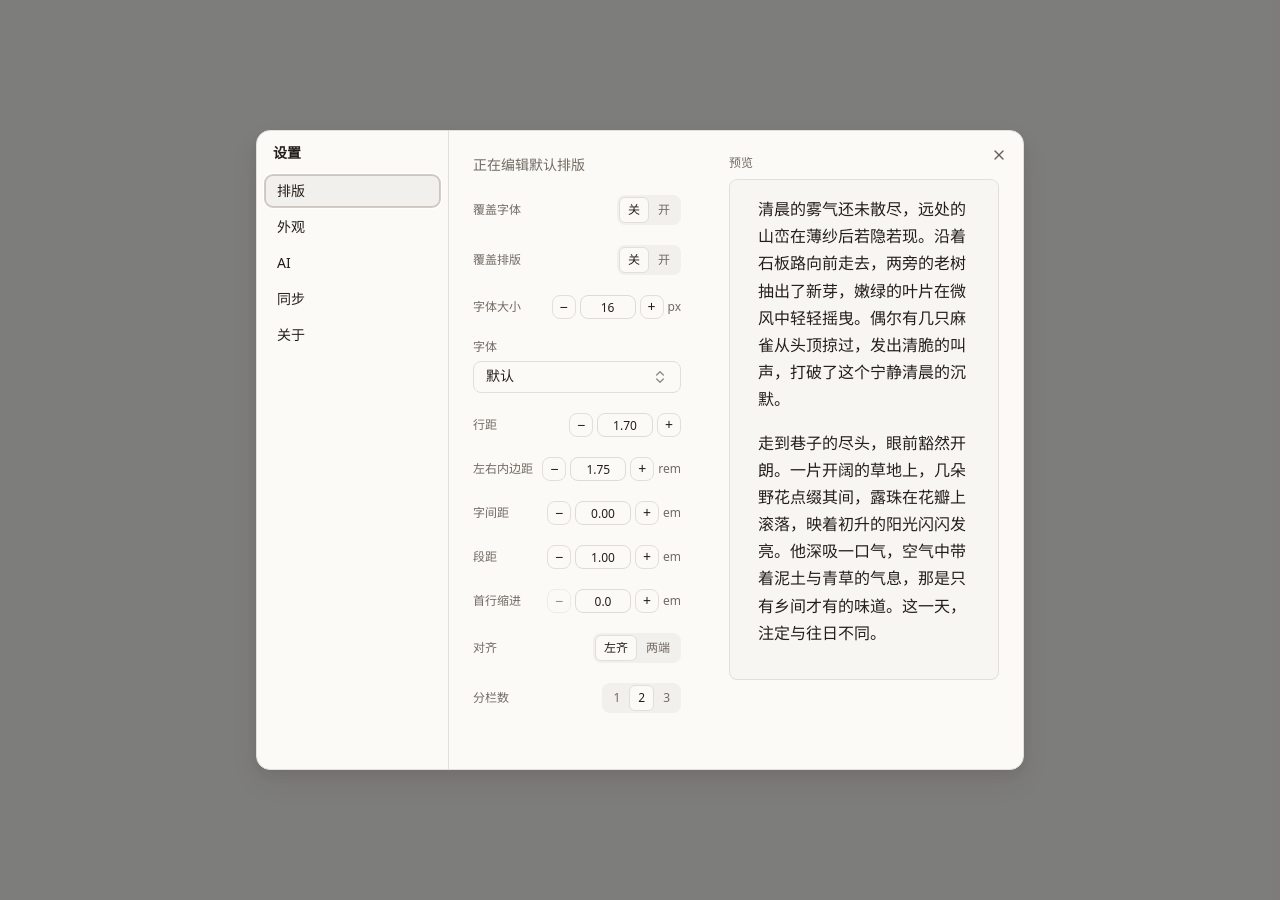
Test: SettingsDialog › hides the preview when switching to the appearance section
This screenshot has width=1280, height=900.
Expected: the text "预览" is shown, [729,154,753,171]
Expected: the element with class "litera-typography-preview" is shown, [729,179,999,680]
Click the button "外观" at (352, 227), box [265,211,440,243]
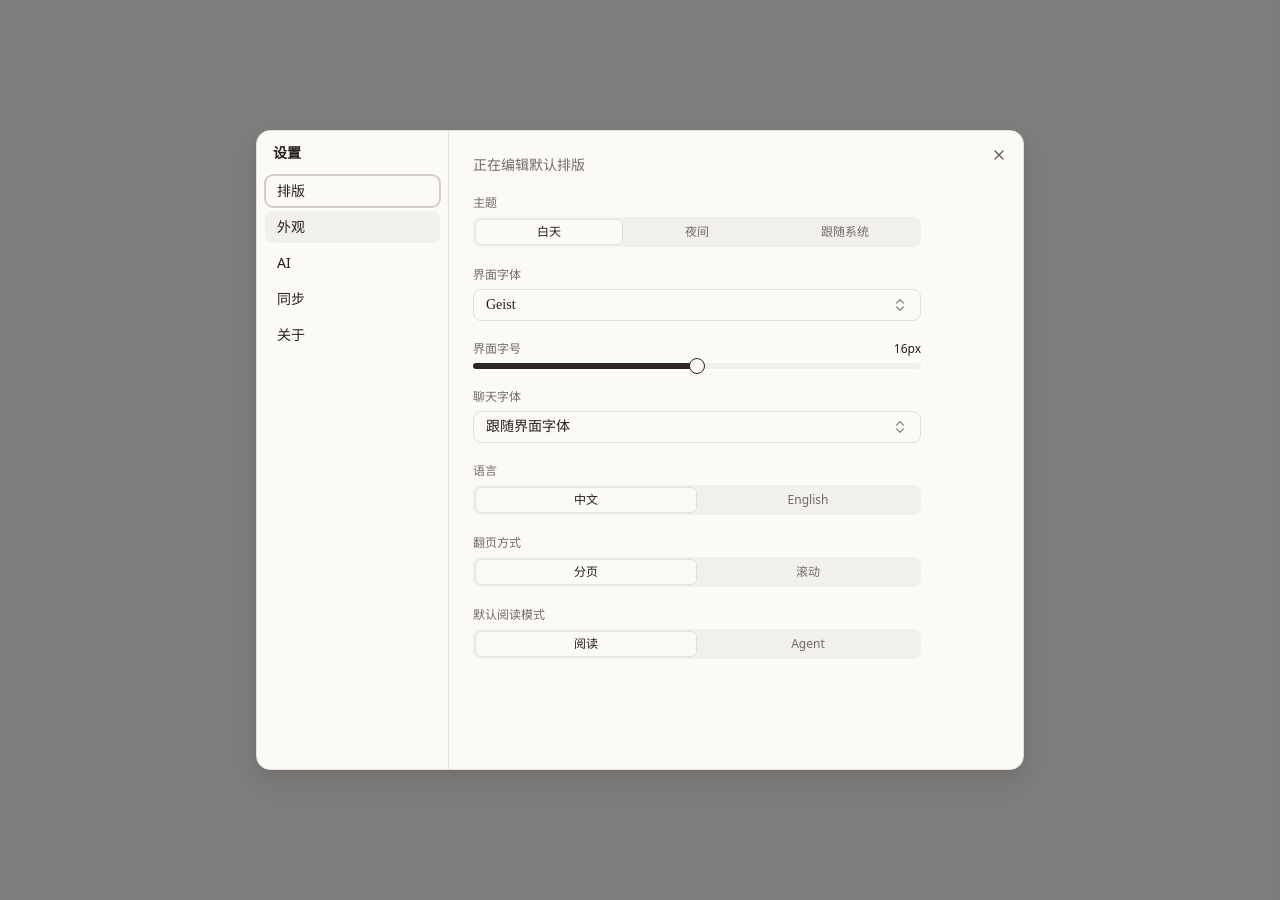
Expected: the text "预览" is gone
Expected: the element with class "litera-typography-preview" is gone
